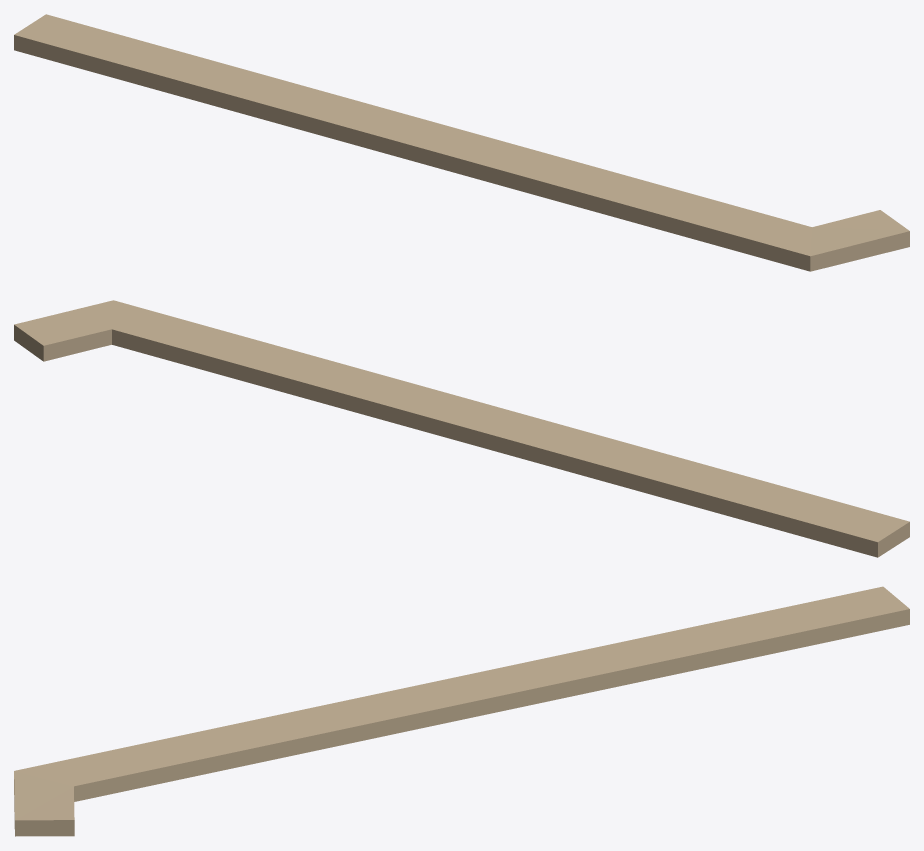
Rendered from west-connector-protected-city-C.glb.
The picture shows the model from 3 angles, top to bottom: view 1: azimuth 30°, elevation 25°; view 2: azimuth 210°, elevation 25°; view 3: azimuth 270°, elevation 25°; orthographic projection. The views are drawn at different scales.
Visible parts, largest first — view 1: west-connector-protected-C; view 2: west-connector-protected-C; view 3: west-connector-protected-C.
Boxes of the visible parts, x1,y1,x2,y2 form: west-connector-protected-C: (14, 14, 909, 271); west-connector-protected-C: (14, 300, 909, 557); west-connector-protected-C: (14, 586, 909, 836).
Size of the model in its own units: 11.16 by 0.36 by 18.04.
